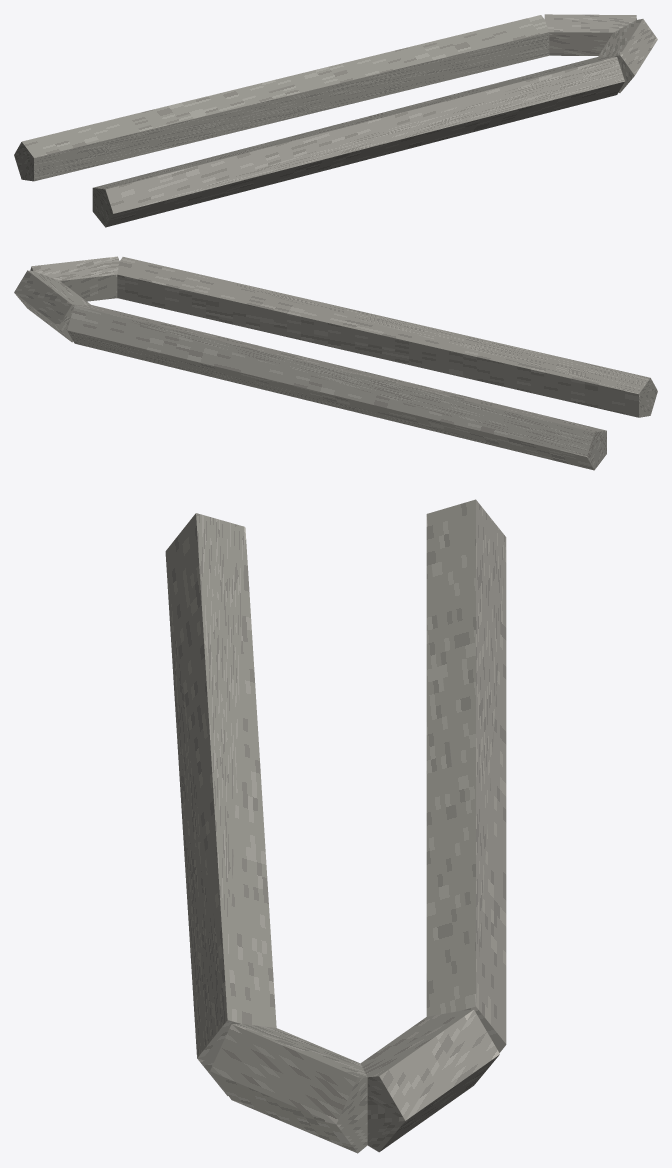
File: hairpin.glb
3 renders of one model, top to bottom at view 1: azimuth 30°, elevation 25°; view 2: azimuth 150°, elevation 25°; view 3: azimuth 270°, elevation 25°, orthographic. The views are drawn at different scales.
Parts seen in each view (by area): view 1: block_spring pin 0, block_spring pin 3, block_spring pin 1, block_spring pin 2; view 2: block_spring pin 3, block_spring pin 0, block_spring pin 1, block_spring pin 2; view 3: block_spring pin 3, block_spring pin 0, block_spring pin 2, block_spring pin 1.
Boxes of the visible parts, x1=… form: block_spring pin 0: x1=14, y1=15, x2=549, y2=181; block_spring pin 3: x1=92, y1=56, x2=624, y2=227; block_spring pin 1: x1=544, y1=14, x2=636, y2=55; block_spring pin 2: x1=598, y1=19, x2=657, y2=92; block_spring pin 3: x1=117, y1=257, x2=657, y2=417; block_spring pin 0: x1=67, y1=305, x2=606, y2=470; block_spring pin 1: x1=14, y1=270, x2=90, y2=342; block_spring pin 2: x1=30, y1=256, x2=119, y2=301; block_spring pin 3: x1=165, y1=513, x2=276, y2=1095; block_spring pin 0: x1=426, y1=499, x2=506, y2=1052; block_spring pin 2: x1=210, y1=1024, x2=367, y2=1153; block_spring pin 1: x1=360, y1=1009, x2=499, y2=1152.
Size of the model in its own units: 0.045 by 0.00272 by 0.011.
1 material, 1 textured.
